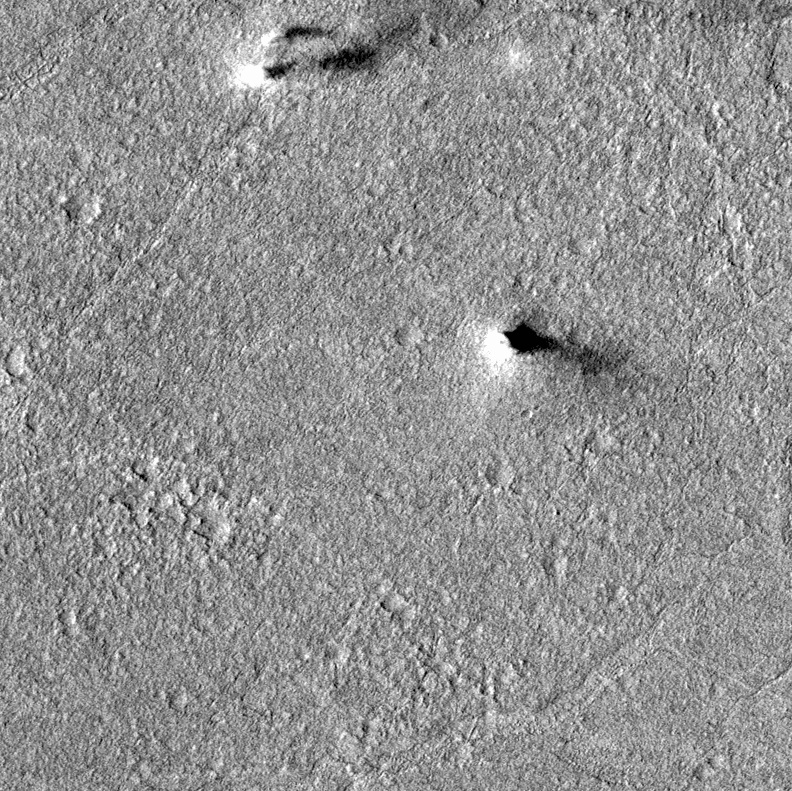dust_devil: (478, 316, 632, 380), (238, 43, 379, 90), (259, 24, 333, 49)
